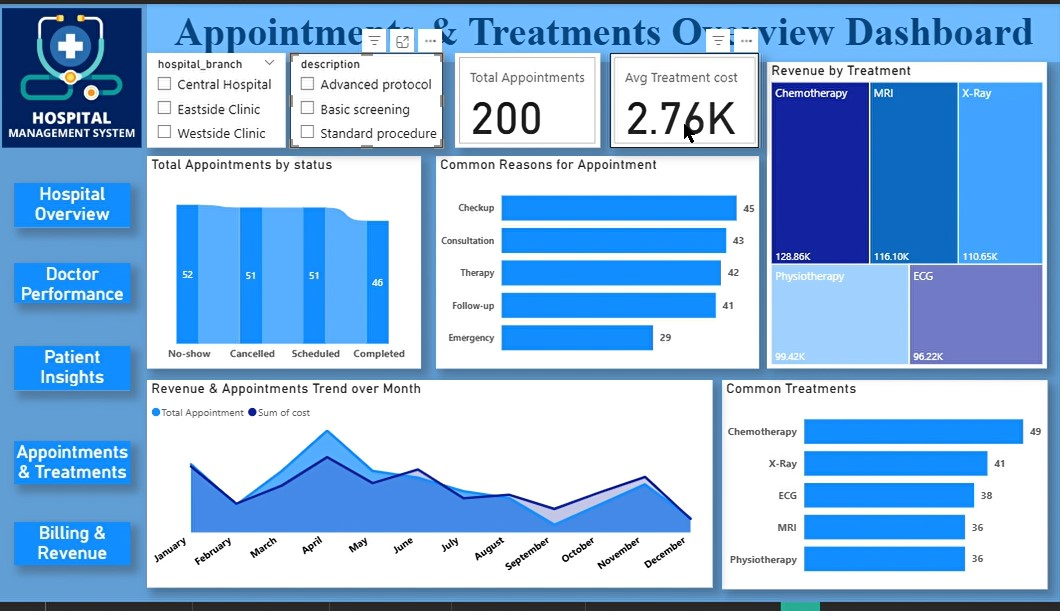

The dashboard page shown, as its layout file describes it:
{"tool":"powerbi","page":{"name":"Appointments & Treatments","canvas":[1280,720],"ordinal":4},"visuals":[{"type":"textbox","box":[180.3,0,1099.7,70.2],"z":0},{"type":"cardVisual","fields":{"Data":["appointments.Total Appointments"]},"box":[551.9,59.2,174.8,114.2],"z":1000},{"type":"slicer","fields":{"Values":["doctors.hospital_branch"]},"box":[180.3,59.2,166.5,114.2],"z":2000},{"type":"barChart","title":"Common Reasons for Appointment","fields":{"Category":["appointments.reason_for_visit"],"Y":["appointments.Total Appointments"]},"box":[528.6,183.3,389.4,255.6],"z":3000},{"type":"barChart","title":"Common Treatments","fields":{"Category":["treatments.treatment_type"],"Y":["treatments.Total Appointment"]},"box":[872.6,452.3,392.1,251.6],"z":4000},{"type":"treemap","title":"Revenue by Treatment","fields":{"Group":["treatments.treatment_type"],"Values":["Sum(treatments.cost)"]},"box":[927.4,69.6,337.2,369.4],"z":5000},{"type":"ribbonChart","fields":{"Y":["appointments.Total Appointments"],"Category":["appointments.status"]},"box":[180.3,183.1,330.3,256],"z":6000},{"type":"areaChart","title":"Revenue & Appointments Trend over Month","fields":{"Category":["treatments.treatment_date.Variation.Date Hierarchy.Month"],"Y":["treatments.Total Appointment"],"Y2":["Sum(treatments.cost)"]},"box":[180.3,452.8,681.3,250.5],"z":7000},{"type":"cardVisual","fields":{"Data":["treatments.Avg Treatment cost"]},"box":[737.7,59.2,180.3,114.2],"z":8000},{"type":"slicer","fields":{"Values":["treatments.description"]},"box":[352.3,59.2,184.4,114.2],"z":9000},{"type":"image","box":[0,0,180.3,177.5],"z":10000},{"type":"actionButton","title":"Hospital Overview","box":[20.6,216.1,140.4,53.7],"z":11000},{"type":"actionButton","title":"Patient Insights","box":[20.6,411.5,140.4,53.7],"z":12000},{"type":"actionButton","title":"Appointments & Treatments","box":[20.6,525.8,140.4,52.3],"z":13000},{"type":"actionButton","title":"Billing & Revenue","box":[20.6,623.5,140.4,52.3],"z":14000},{"type":"actionButton","title":"Doctor Performance","box":[20.6,312.4,140.4,48.2],"z":15000}]}

Visuals, with their boxes in screenshot pixels (x1, y1, x2, y2), scaled from the page's 1280x720 canvas onto the 1060x611 screenshot:
textbox: (149, 0, 1059, 60)
cardVisual - appointments.Total Appointments: (457, 50, 602, 147)
slicer - doctors.hospital_branch: (149, 50, 287, 147)
"Common Reasons for Appointment" barChart: (438, 156, 760, 372)
"Common Treatments" barChart: (723, 384, 1047, 597)
"Revenue by Treatment" treemap: (768, 59, 1047, 373)
ribbonChart - appointments.Total Appointments x appointments.status: (149, 155, 423, 373)
"Revenue & Appointments Trend over Month" areaChart: (149, 384, 714, 597)
cardVisual - treatments.Avg Treatment cost: (611, 50, 760, 147)
slicer - treatments.description: (292, 50, 444, 147)
image: (0, 0, 149, 151)
"Hospital Overview" actionButton: (17, 183, 133, 229)
"Patient Insights" actionButton: (17, 349, 133, 395)
"Appointments & Treatments" actionButton: (17, 446, 133, 491)
"Billing & Revenue" actionButton: (17, 529, 133, 573)
"Doctor Performance" actionButton: (17, 265, 133, 306)
